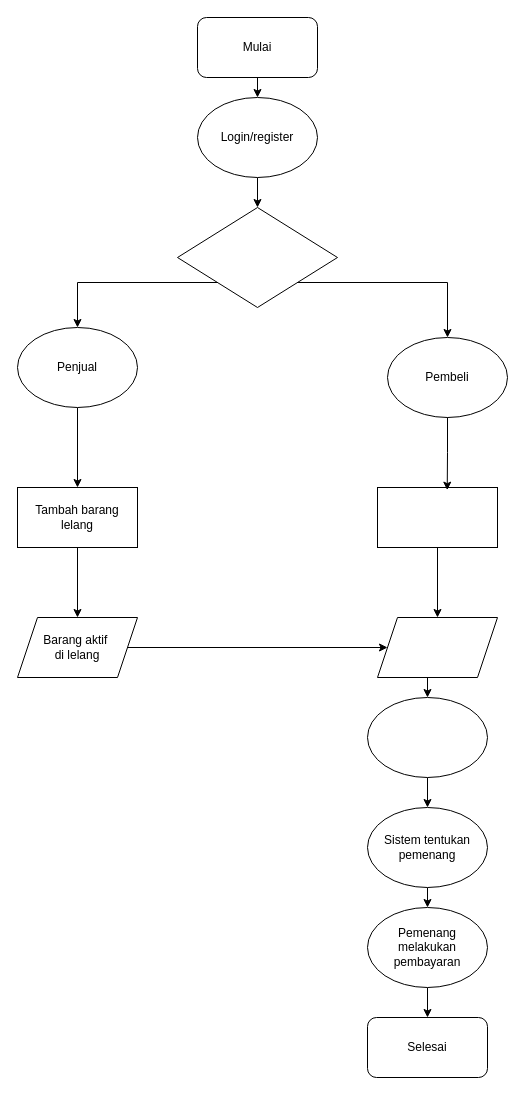
Image size: 525x1095. Some labels were removed from this diagram. The shapes that lost their labels are listed below. From the top down, each one's centre as x and y in pixels, then its label:
At point 257,257: "role: penjual atau pembeli".
At point 437,517: "Lihat daftar barang".
At point 437,647: "Ajukan penawaran".
At point 427,737: "Lelang berakhir otomatis".
